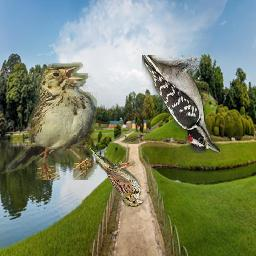Sparrow: (1, 62, 97, 180), (88, 145, 144, 207)
Woodpecker: (142, 55, 220, 153)
